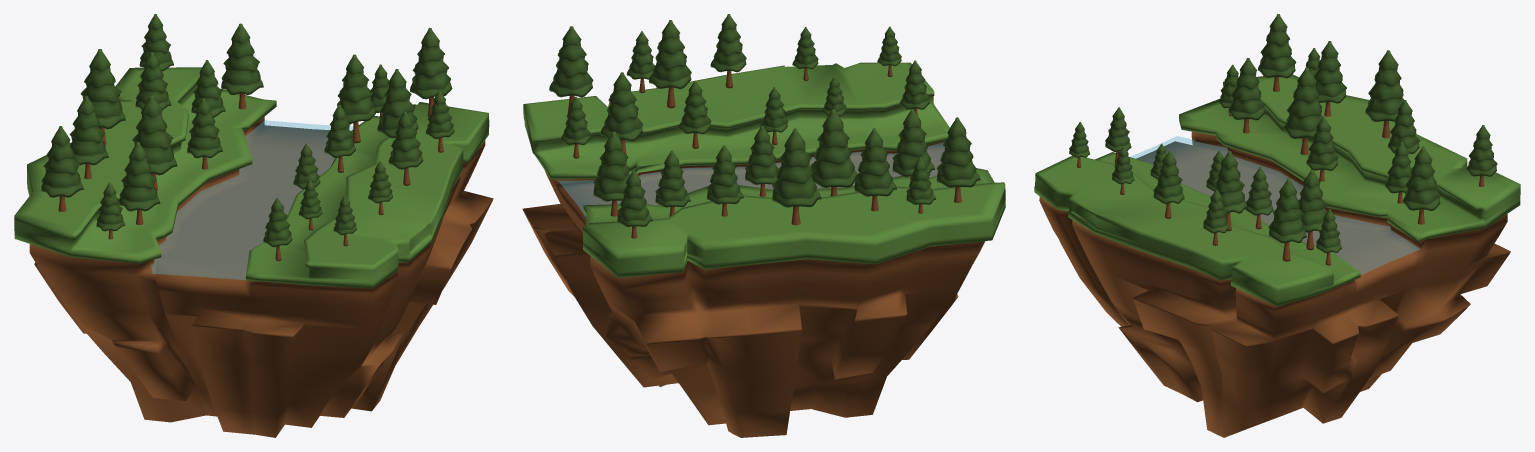
The model's file is River.glb.
The picture shows the model from 3 angles, left to right: view 1: azimuth 30°, elevation 25°; view 2: azimuth 150°, elevation 25°; view 3: azimuth 270°, elevation 25°; orthographic projection. The views are drawn at different scales.
Visible parts, largest first — view 1: Cube.025, Cube.177, Cylinder.027, Cylinder.033, Cylinder.030, Cylinder.036, Cylinder.039, Cylinder.037, Cylinder.031, Cylinder.049, Cylinder.043, Cylinder.035 (+13 smaller); view 2: Cube.025, Cube.177, Cylinder.030, Cylinder.036, Cylinder.027, Cylinder.039, Cylinder.043, Cylinder.031, Cylinder.033, Cylinder.049, Cylinder.037, Cylinder.029 (+13 smaller); view 3: Cube.025, Cube.177, Cylinder.036, Cylinder.030, Cylinder.039, Cylinder.033, Cylinder.027, Cylinder.037, Cylinder.031, Cylinder.043, Cylinder.049, Cylinder.035 (+11 smaller).
Boxes of the visible parts, bbox=[...] form: Cube.025: bbox=[14, 67, 493, 437]; Cube.177: bbox=[151, 120, 352, 279]; Cylinder.027: bbox=[41, 126, 83, 211]; Cylinder.033: bbox=[221, 23, 263, 109]; Cylinder.030: bbox=[81, 49, 125, 145]; Cylinder.036: bbox=[132, 95, 177, 190]; Cylinder.039: bbox=[410, 28, 452, 117]; Cylinder.037: bbox=[119, 142, 160, 224]; Cylinder.031: bbox=[69, 95, 108, 179]; Cylinder.049: bbox=[337, 54, 375, 143]; Cylinder.043: bbox=[377, 69, 418, 138]; Cylinder.035: bbox=[187, 98, 222, 169]; Cube.025: bbox=[522, 62, 1005, 437]; Cube.177: bbox=[558, 142, 944, 216]; Cylinder.030: bbox=[772, 128, 821, 225]; Cylinder.036: bbox=[810, 109, 857, 195]; Cylinder.027: bbox=[936, 117, 980, 202]; Cylinder.039: bbox=[549, 26, 593, 112]; Cylinder.043: bbox=[648, 20, 691, 108]; Cylinder.031: bbox=[854, 128, 896, 211]; Cylinder.033: bbox=[593, 131, 629, 216]; Cylinder.049: bbox=[600, 72, 642, 154]; Cylinder.037: bbox=[892, 109, 934, 180]; Cylinder.029: bbox=[706, 145, 743, 216]; Cube.025: bbox=[1034, 74, 1520, 437]; Cube.177: bbox=[1130, 136, 1420, 274]; Cylinder.036: bbox=[1283, 67, 1322, 155]; Cylinder.030: bbox=[1365, 50, 1403, 138]; Cylinder.039: bbox=[1268, 178, 1306, 261]; Cylinder.033: bbox=[1402, 146, 1440, 224]; Cylinder.027: bbox=[1257, 14, 1296, 91]; Cylinder.037: bbox=[1228, 58, 1265, 133]; Cylinder.031: bbox=[1313, 41, 1346, 116]; Cylinder.043: bbox=[1210, 150, 1247, 231]; Cylinder.049: bbox=[1298, 169, 1326, 250]; Cylinder.035: bbox=[1306, 116, 1338, 181].
Size of the model in its own units: 6.58 by 4.55 by 6.48.
